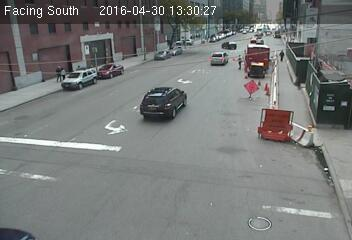neg: (170, 81, 182, 97), (18, 76, 29, 91), (309, 54, 319, 68), (244, 77, 254, 90), (280, 27, 290, 40), (117, 76, 127, 89), (213, 32, 222, 44), (107, 37, 116, 49), (261, 28, 270, 39), (159, 42, 167, 53)
pos: (51, 63, 66, 83), (233, 51, 247, 69), (276, 47, 288, 63), (58, 67, 68, 80)
